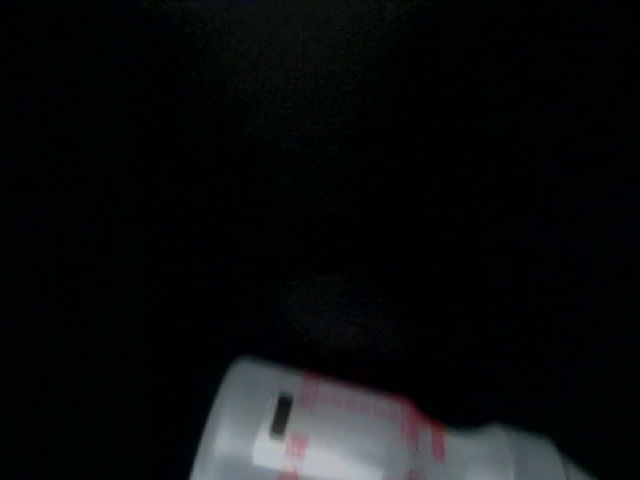CYLJ: (329, 357, 628, 480)
